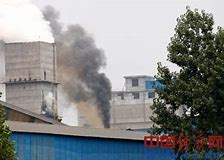smoke: (59, 16, 111, 127)
